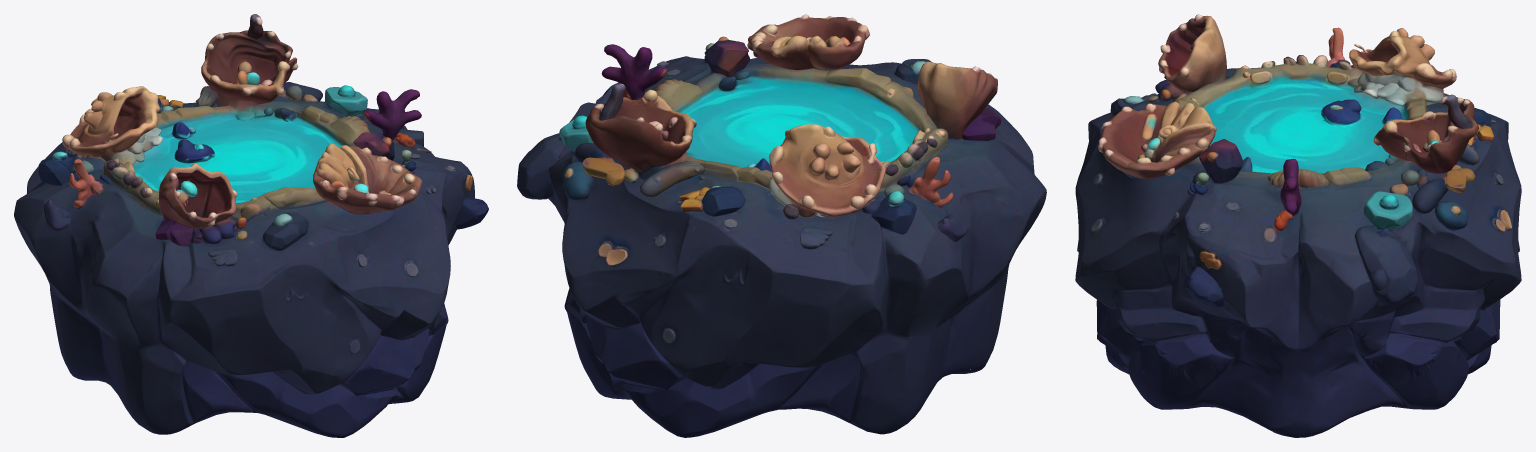
The model's file is isla-perlas.glb.
3 renders of one model, left to right at view 1: azimuth 30°, elevation 25°; view 2: azimuth 150°, elevation 25°; view 3: azimuth 270°, elevation 25°, orthographic. The views are drawn at different scales.
Size of the model in its own units: 0.9787 by 0.6967 by 0.9236.
1 material, 1 textured.
